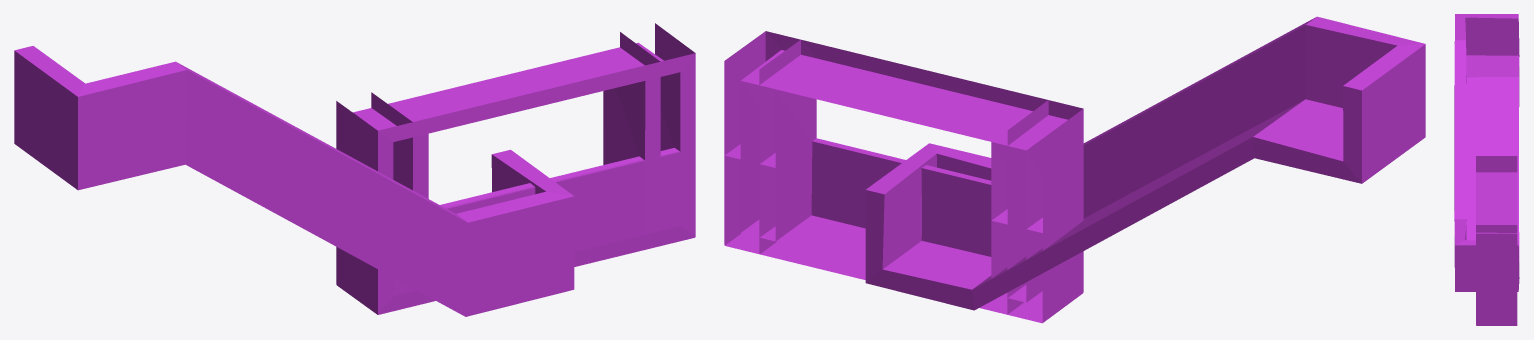
The model's file is Environment_ModularBuildingSet_CollisionMeshes.fbx.
3 renders of one model, left to right at view 1: azimuth 30°, elevation 25°; view 2: azimuth 150°, elevation 25°; view 3: azimuth 270°, elevation 25°, orthographic. The views are drawn at different scales.
Visible parts, largest first — view 1: Environment_ModularBuildingSet_Stairs_BertaH_Col, Environment_ModularBuildingSet_Balcony_lBoolian_BertaH_Col, Environment_ModularBuildingSet_Balcony_sBoolian_BertaH_Col, Environment_ModularBuildingSet_Balcony_sDecal_BertaH_Col, Environment_ModularBuildingSet_Balcony_lDecal_BertaH_Col; view 2: Environment_ModularBuildingSet_Stairs_BertaH_Col, Environment_ModularBuildingSet_Balcony_lBoolian_BertaH_Col, Environment_ModularBuildingSet_Balcony_sDecal_BertaH_Col, Environment_ModularBuildingSet_Balcony_sBoolian_BertaH_Col, Environment_ModularBuildingSet_Balcony_lDecal_BertaH_Col; view 3: Environment_ModularBuildingSet_Stairs_BertaH_Col, Environment_ModularBuildingSet_Balcony_lBoolian_BertaH_Col, Environment_ModularBuildingSet_Balcony_sBoolian_BertaH_Col.
Boxes of the visible parts, x1,y1,x2,y2 form: Environment_ModularBuildingSet_Stairs_BertaH_Col: (14, 46, 574, 316); Environment_ModularBuildingSet_Balcony_lBoolian_BertaH_Col: (336, 23, 695, 314); Environment_ModularBuildingSet_Balcony_sBoolian_BertaH_Col: (371, 32, 660, 305); Environment_ModularBuildingSet_Balcony_sDecal_BertaH_Col: (440, 130, 644, 208); Environment_ModularBuildingSet_Balcony_lDecal_BertaH_Col: (337, 148, 695, 314); Environment_ModularBuildingSet_Stairs_BertaH_Col: (865, 16, 1425, 310); Environment_ModularBuildingSet_Balcony_lBoolian_BertaH_Col: (724, 31, 1083, 321); Environment_ModularBuildingSet_Balcony_sDecal_BertaH_Col: (759, 138, 1023, 314); Environment_ModularBuildingSet_Balcony_sBoolian_BertaH_Col: (759, 40, 1048, 313); Environment_ModularBuildingSet_Balcony_lDecal_BertaH_Col: (724, 141, 1082, 323); Environment_ModularBuildingSet_Stairs_BertaH_Col: (1454, 14, 1519, 291); Environment_ModularBuildingSet_Balcony_lBoolian_BertaH_Col: (1476, 156, 1517, 325); Environment_ModularBuildingSet_Balcony_sBoolian_BertaH_Col: (1476, 164, 1517, 232).
Size of the model in its own units: 911 by 430 by 160.
